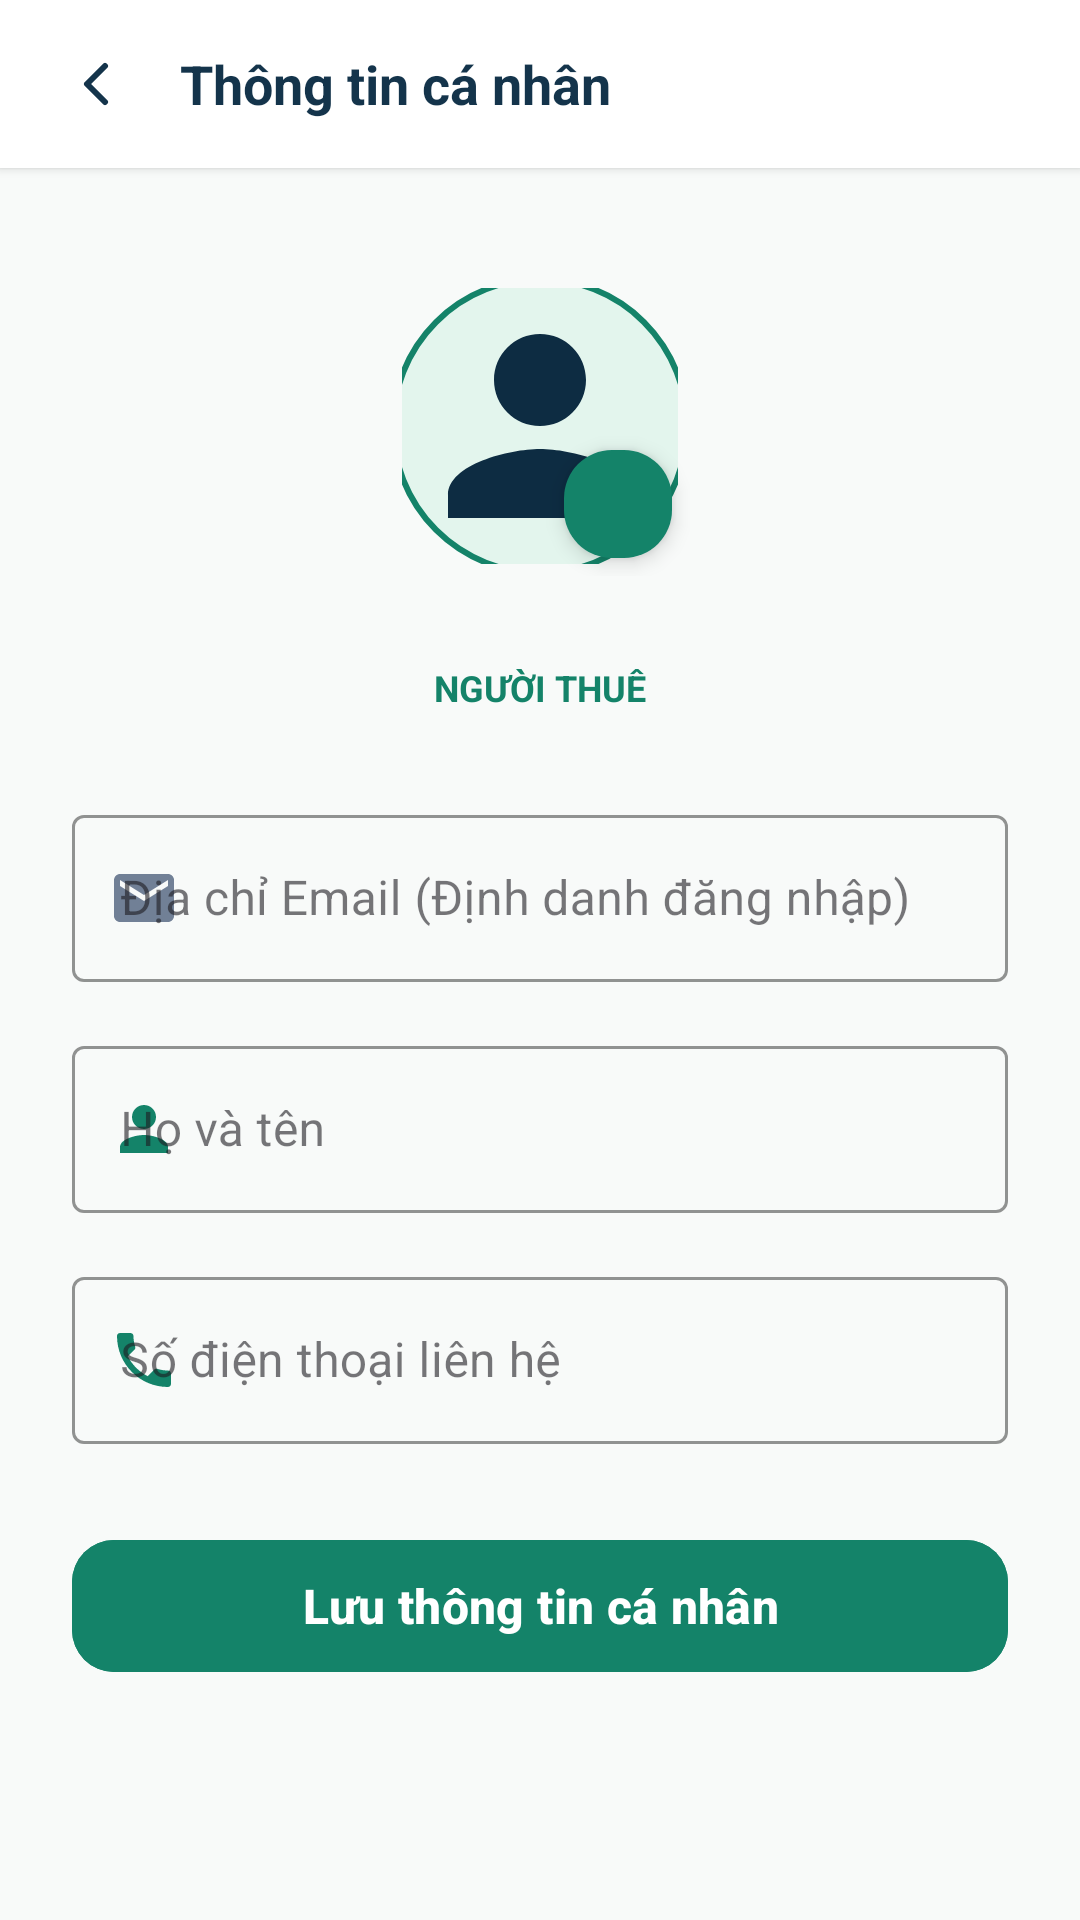

Point at icon controls on the screen. Image size 1080x1920, points as point (x, y).
Quay lại: point (96, 84)
user: point (540, 428)
